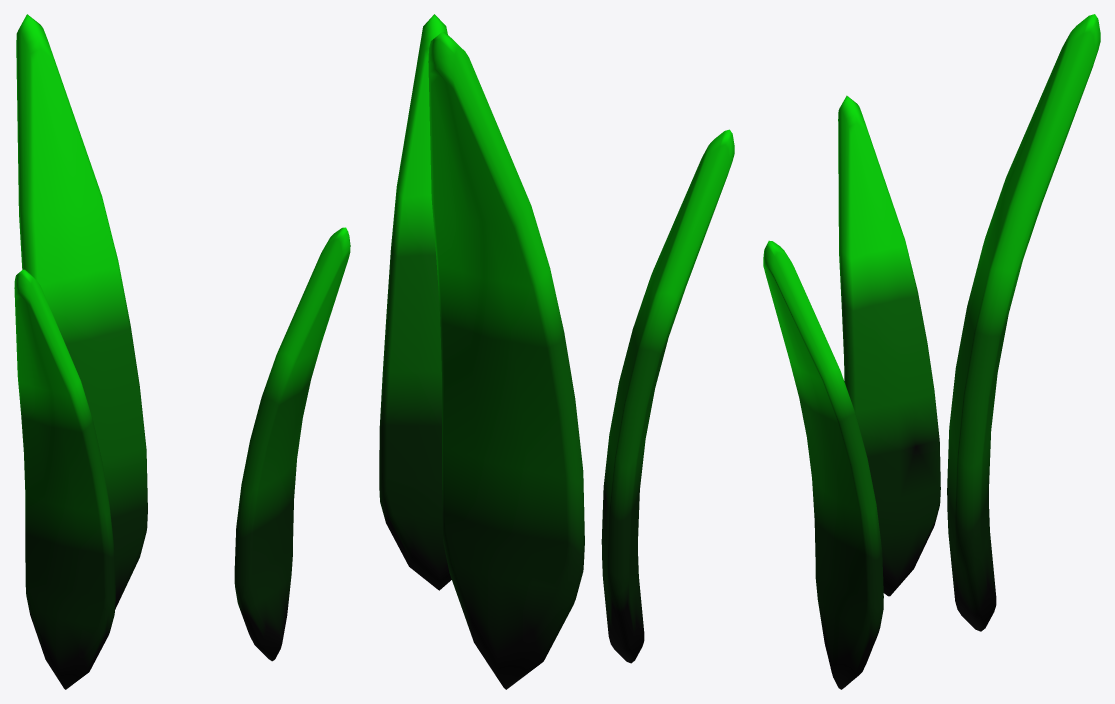
Rendered from SM_GrassTuft1.fbx.
The picture shows the model from 3 angles, left to right: view 1: azimuth 30°, elevation 25°; view 2: azimuth 150°, elevation 25°; view 3: azimuth 270°, elevation 25°; orthographic projection. The views are drawn at different scales.
Parts seen in each view (by area): view 1: SM_GrassTuft1; view 2: SM_GrassTuft1; view 3: SM_GrassTuft1.
Boxes of the visible parts, box(x1,y1,x2,y2) form: SM_GrassTuft1: box(14, 14, 350, 689); SM_GrassTuft1: box(379, 14, 734, 689); SM_GrassTuft1: box(763, 14, 1100, 689).
Size of the model in its own units: 27.32 by 52.14 by 25.8.
